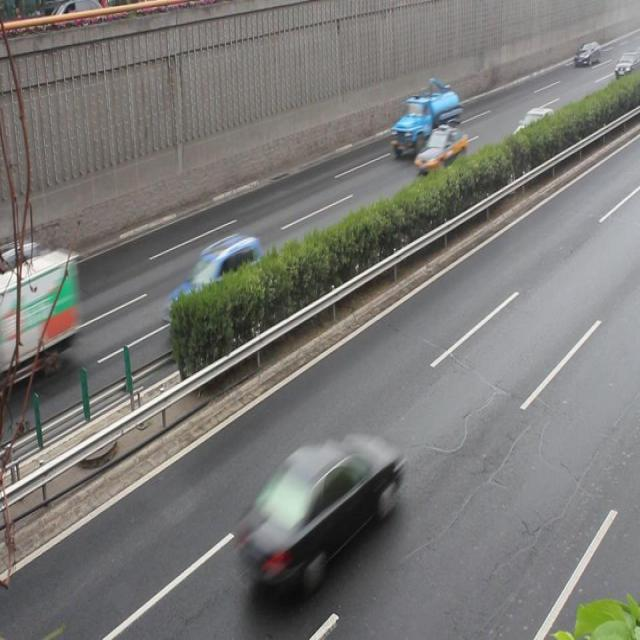bus: (1, 240, 80, 385), (390, 90, 462, 155)
car: (238, 431, 405, 582), (164, 231, 263, 319), (510, 106, 557, 156), (413, 126, 466, 170)
